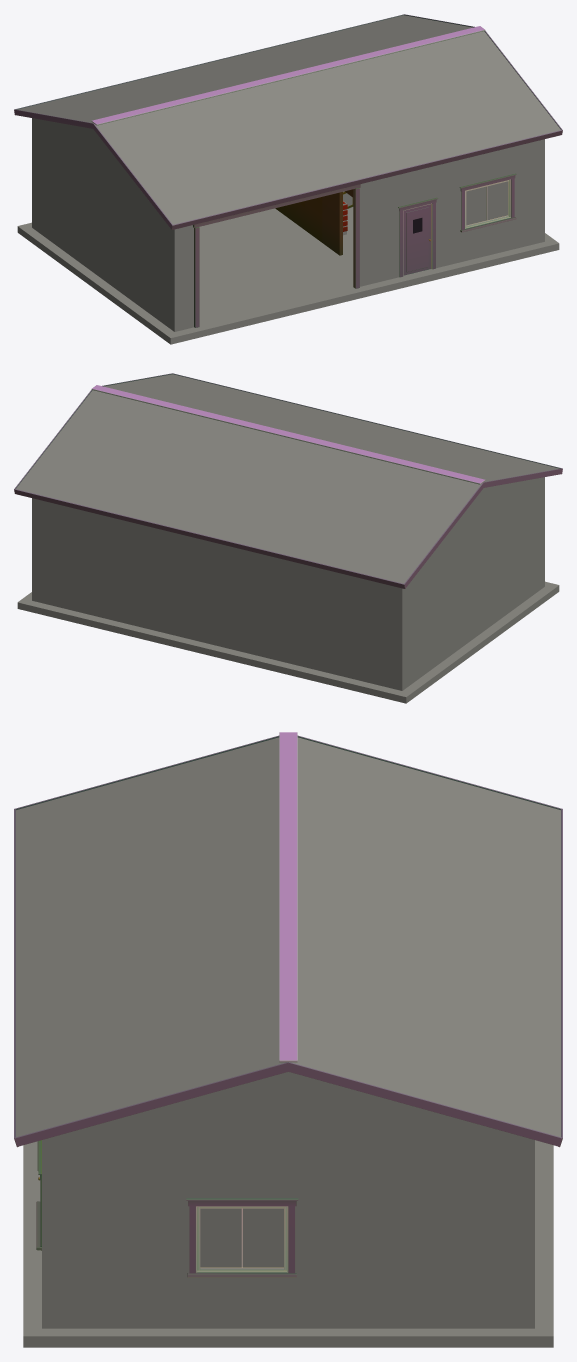
The model's file is farm_shed.glb.
3 views of the same model, one above another, from view 1: azimuth 30°, elevation 25°; view 2: azimuth 150°, elevation 25°; view 3: azimuth 270°, elevation 25° (orthographic). The views are drawn at different scales.
Parts seen in each view (by area): view 1: shed_col__m, shed_ext__m, shed_int__m, shed_door_workshop__m; view 2: shed_col__m, shed_ext__m; view 3: shed_col__m, shed_ext__m.
Part boxes in pixels (x1,y1,x2,y2): shed_col__m: (17, 15, 560, 344); shed_ext__m: (14, 14, 562, 327); shed_int__m: (275, 179, 510, 275); shed_door_workshop__m: (403, 204, 430, 275); shed_col__m: (16, 374, 559, 703); shed_ext__m: (14, 373, 562, 588); shed_col__m: (16, 737, 560, 1347); shed_ext__m: (14, 732, 562, 1277).
Bounding box in the file's own units: 12.66 × 5.14 × 8.91.
